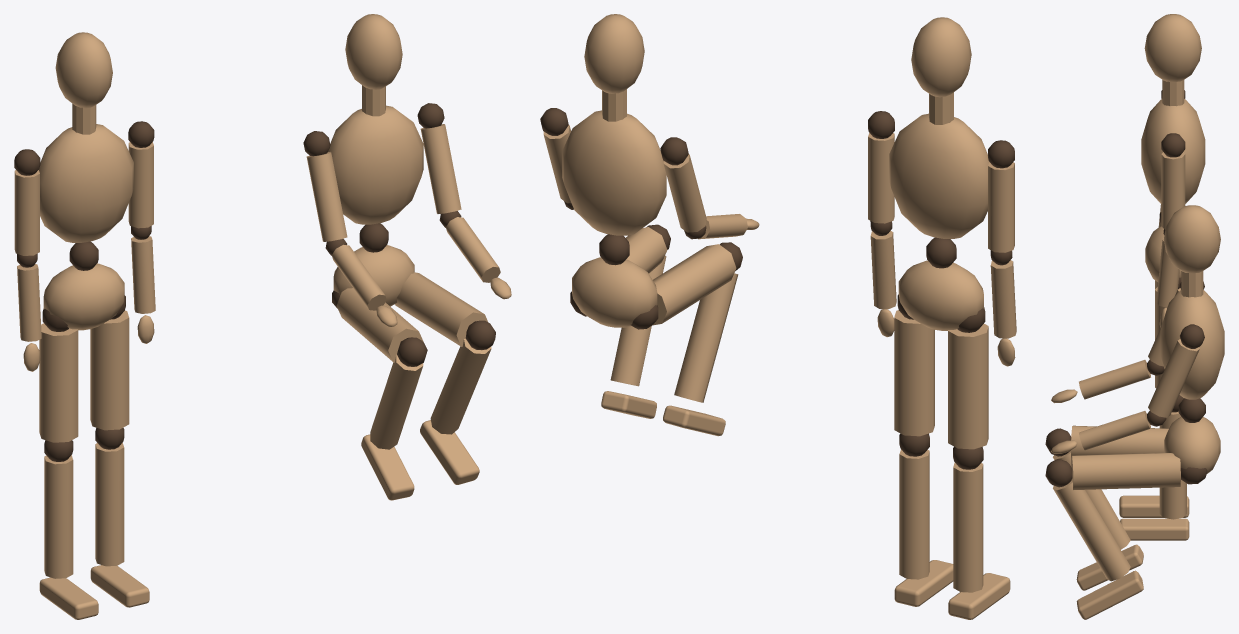
The model's file is mannequin.glb.
3 views of the same model, side by side, from view 1: azimuth 30°, elevation 25°; view 2: azimuth 150°, elevation 25°; view 3: azimuth 270°, elevation 25° (orthographic). The views are drawn at different scales.
Parts seen in each view (by area): view 1: Mannequin_Standing_Chest, Mannequin_Seated_Chest, Mannequin_Standing_Thigh_-1, Mannequin_Standing_Thigh_1, Mannequin_Standing_Hips, Mannequin_Standing_Shin_-1, Mannequin_Standing_Shin_1, Mannequin_Seated_Head, Mannequin_Standing_Head, Mannequin_Seated_Thigh_1, Mannequin_Seated_Shin_1, Mannequin_Seated_Shin_-1 (+19 smaller); view 2: Mannequin_Seated_Chest, Mannequin_Standing_Chest, Mannequin_Standing_Thigh_-1, Mannequin_Standing_Thigh_1, Mannequin_Seated_Hips, Mannequin_Standing_Hips, Mannequin_Standing_Shin_-1, Mannequin_Standing_Shin_1, Mannequin_Standing_Head, Mannequin_Seated_Head, Mannequin_Seated_Thigh_-1, Mannequin_Seated_Shin_-1 (+17 smaller); view 3: Mannequin_Seated_Chest, Mannequin_Standing_Chest, Mannequin_Seated_Thigh_1, Mannequin_Seated_Head, Mannequin_Standing_Head, Mannequin_Seated_Shin_1, Mannequin_Seated_Hips, Mannequin_Seated_UpperArm_1, Mannequin_Seated_Thigh_-1, Mannequin_Seated_Foot_1, Mannequin_Standing_UpperArm_1, Mannequin_Standing_Foot_1 (+18 smaller).
Boxes of the visible parts, box(x1,y1,x2,y2) form: Mannequin_Standing_Chest: box(39, 124, 133, 242); Mannequin_Seated_Chest: box(328, 105, 423, 224); Mannequin_Standing_Thigh_-1: box(39, 323, 78, 442); Mannequin_Standing_Thigh_1: box(90, 310, 129, 430); Mannequin_Standing_Hips: box(43, 263, 124, 330); Mannequin_Standing_Shin_-1: box(44, 455, 73, 578); Mannequin_Standing_Shin_1: box(95, 443, 124, 566); Mannequin_Seated_Head: box(345, 14, 402, 89); Mannequin_Standing_Head: box(55, 32, 112, 108); Mannequin_Seated_Thigh_1: box(395, 272, 487, 346); Mannequin_Seated_Shin_1: box(430, 338, 491, 434); Mannequin_Seated_Shin_-1: box(370, 354, 423, 449); Mannequin_Seated_Chest: box(562, 110, 666, 235); Mannequin_Standing_Chest: box(889, 113, 989, 238); Mannequin_Standing_Thigh_-1: box(948, 323, 988, 449); Mannequin_Standing_Thigh_1: box(894, 310, 934, 436); Mannequin_Seated_Hips: box(572, 257, 657, 327); Mannequin_Standing_Hips: box(898, 260, 983, 330); Mannequin_Standing_Shin_-1: box(953, 462, 983, 592); Mannequin_Standing_Shin_1: box(899, 449, 929, 579); Mannequin_Standing_Head: box(911, 17, 971, 97); Mannequin_Seated_Head: box(584, 14, 644, 93); Mannequin_Seated_Thigh_-1: box(653, 244, 736, 325); Mannequin_Seated_Shin_-1: box(674, 273, 738, 402); Mannequin_Seated_Chest: box(1160, 290, 1224, 399); Mannequin_Standing_Chest: box(1141, 99, 1205, 203); Mannequin_Seated_Thigh_1: box(1071, 452, 1180, 489); Mannequin_Seated_Head: box(1163, 205, 1220, 273); Mannequin_Standing_Head: box(1144, 14, 1201, 81); Mannequin_Seated_Shin_1: box(1053, 479, 1130, 581); Mannequin_Seated_Hips: box(1164, 417, 1220, 473); Mannequin_Seated_UpperArm_1: box(1148, 339, 1199, 417); Mannequin_Seated_Thigh_-1: box(1071, 425, 1168, 457); Mannequin_Seated_Foot_1: box(1076, 570, 1143, 619); Mannequin_Standing_UpperArm_1: box(1161, 152, 1185, 229); Mannequin_Standing_Foot_1: box(1120, 518, 1189, 540).
Bounding box in the file's own units: 1.46 × 1.77 × 0.5646.
